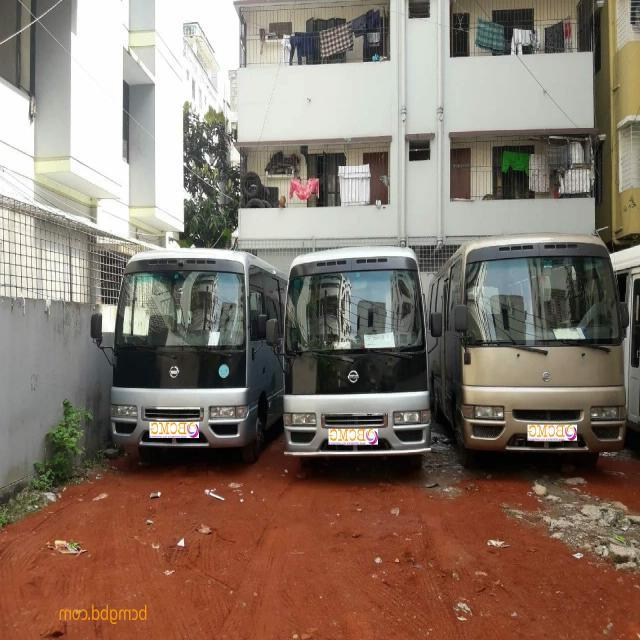Bus: (444, 226, 631, 478), (268, 238, 437, 474), (89, 243, 259, 464)
